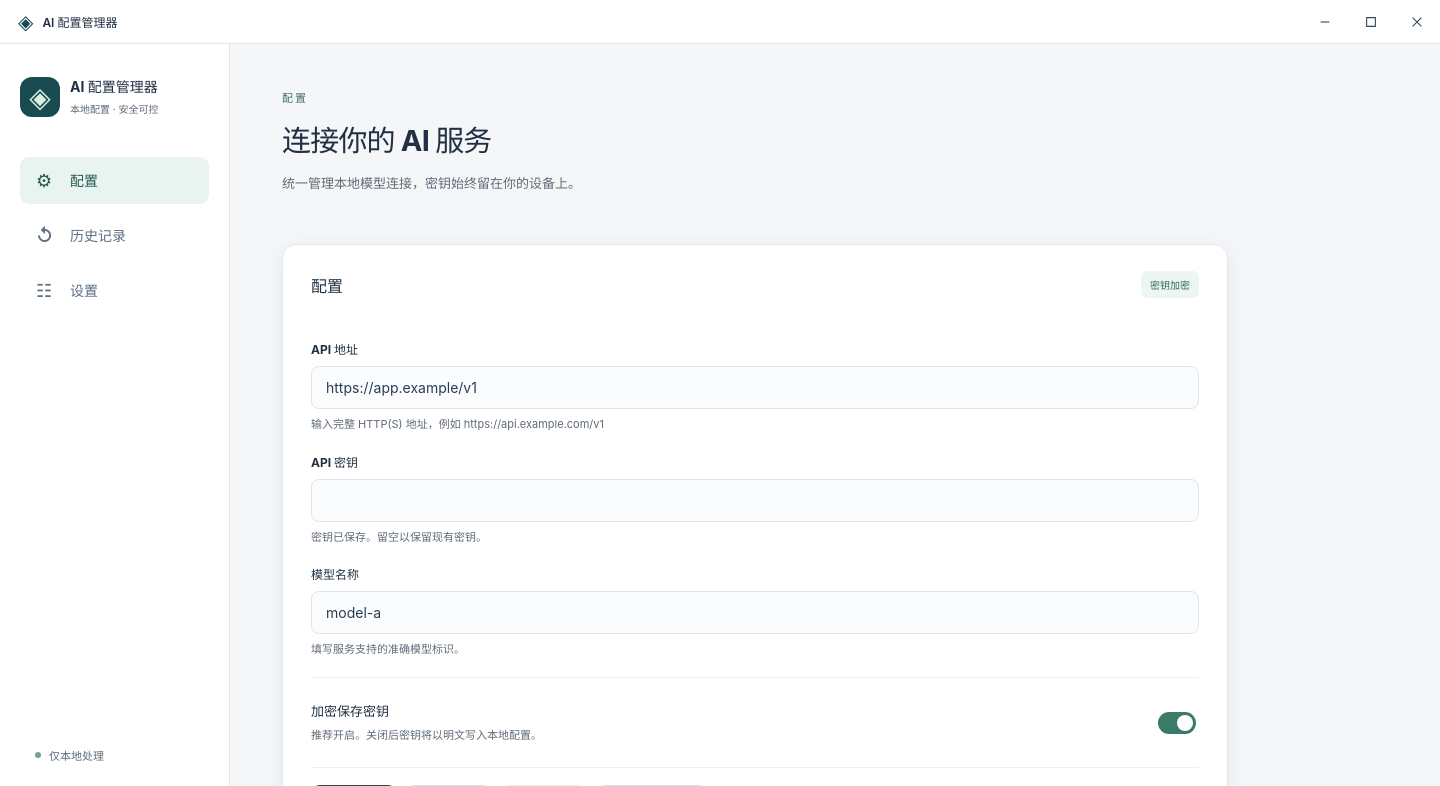
Test: config badge and encryption preference › flips the badge to unsaved while editing and back after saving
Expected: the text with class "badge" reads "密钥加密", [1150,279,1190,291]
Replace the text in the field labelled "模型名称" with "draft-model" at (755, 613), box [311,591,1199,634]
(page scrolled)
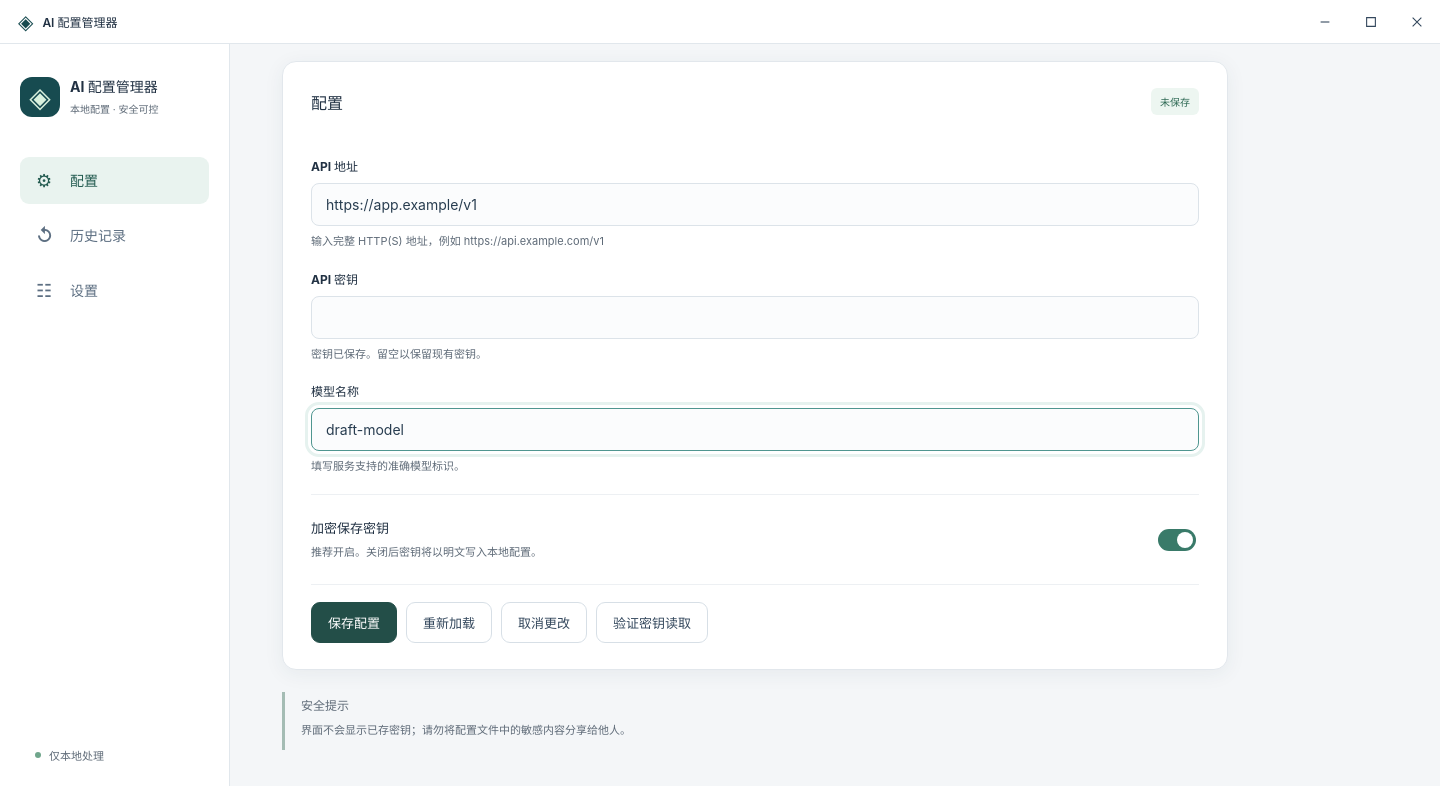
Result: the text with class "badge" reads "未保存" at [1160,96,1190,108]
Result: the button "取消更改" is enabled at [501,602,587,644]
Click the button "保存配置".
click(354, 623)  # box [311,602,397,644]
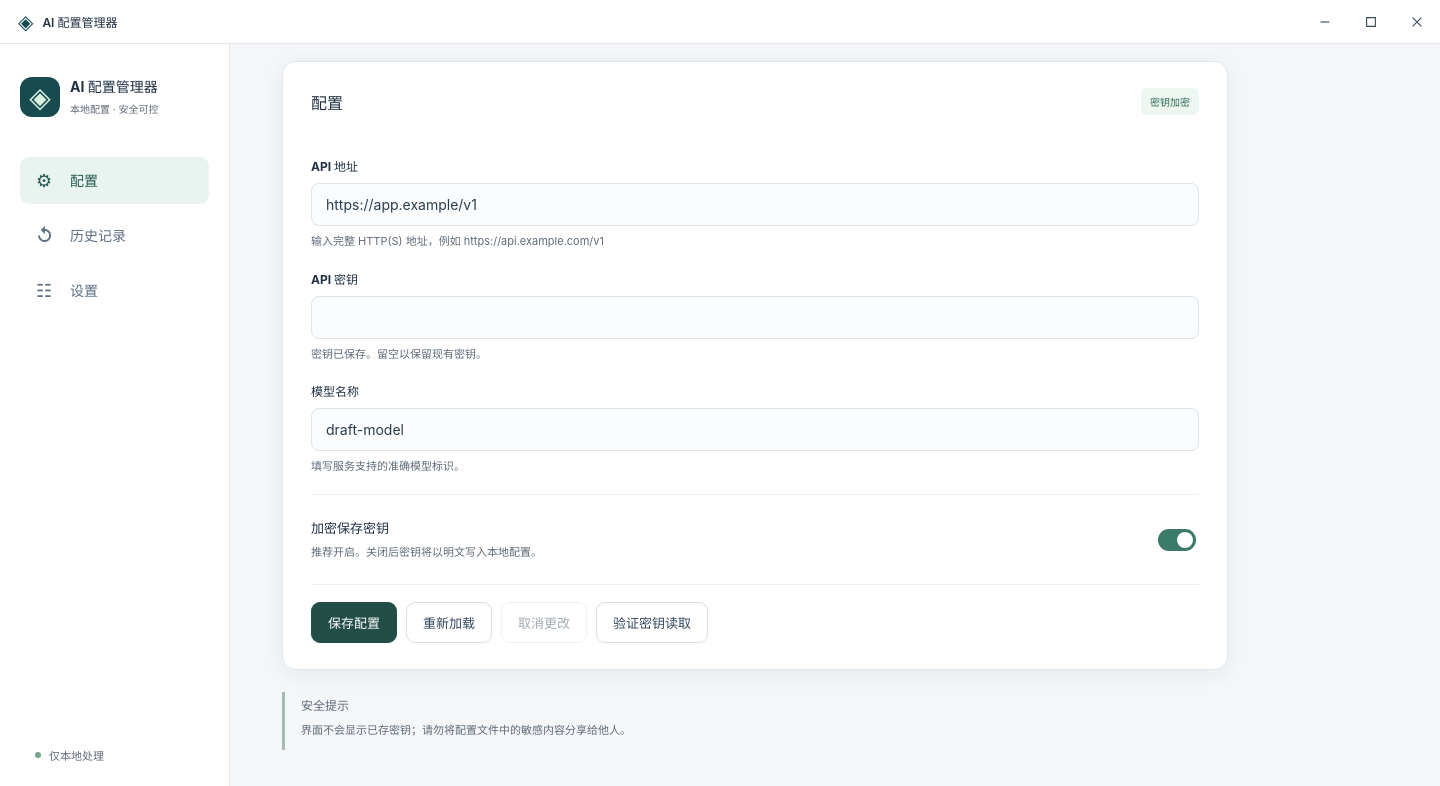
Result: the text with class "badge" reads "密钥加密" at [1150,96,1190,108]
Result: the button "取消更改" is disabled at [501,602,587,644]
